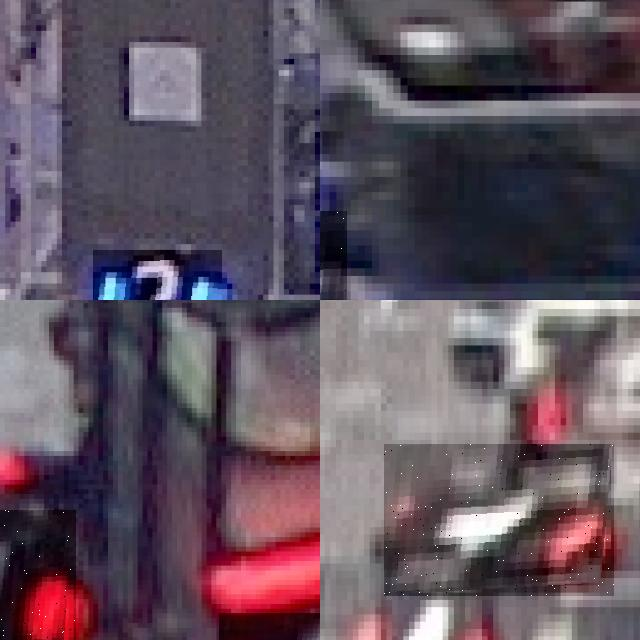B2: (93, 250, 222, 300)
R1: (0, 510, 76, 640)
R4: (384, 444, 614, 596), (341, 578, 498, 640)
